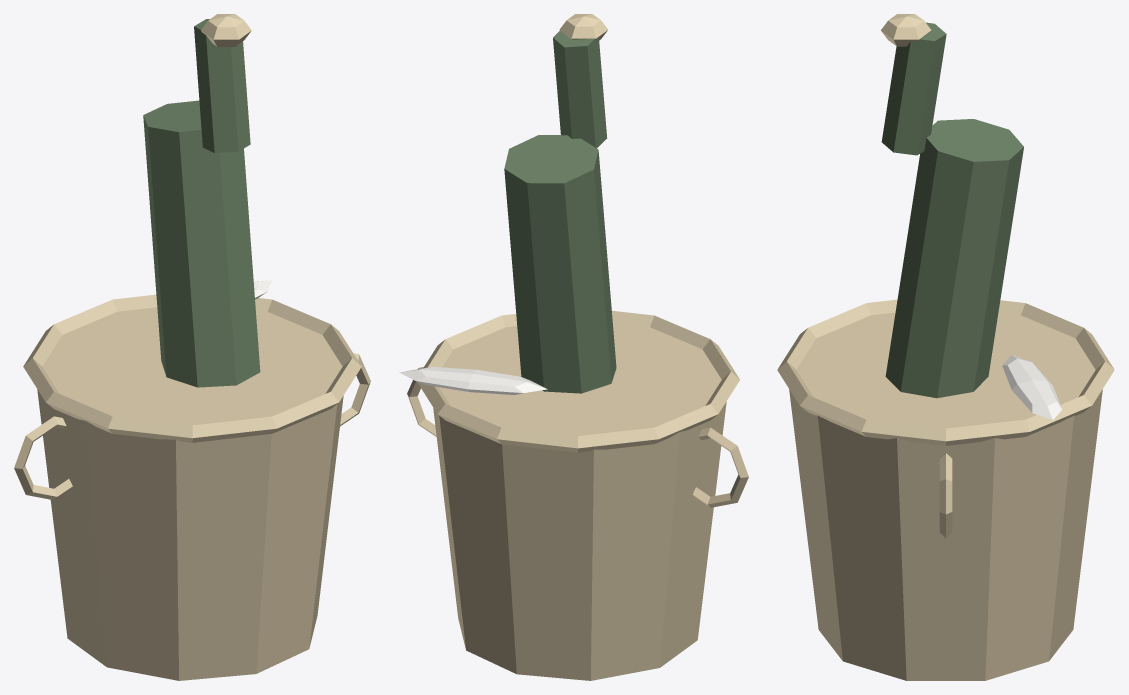
File: ice_bucket.glb
3 views of the same model, side by side, from view 1: azimuth 30°, elevation 25°; view 2: azimuth 150°, elevation 25°; view 3: azimuth 270°, elevation 25° (orthographic). The views are drawn at different scales.
Visible parts, largest first — view 1: IceBucket; view 2: IceBucket; view 3: IceBucket.
Boxes of the visible parts, x1,y1,x2,y2 form: IceBucket: (14, 14, 370, 680); IceBucket: (399, 14, 748, 680); IceBucket: (777, 14, 1114, 680).
Size of the model in its own units: 0.258 by 0.4296 by 0.212.
